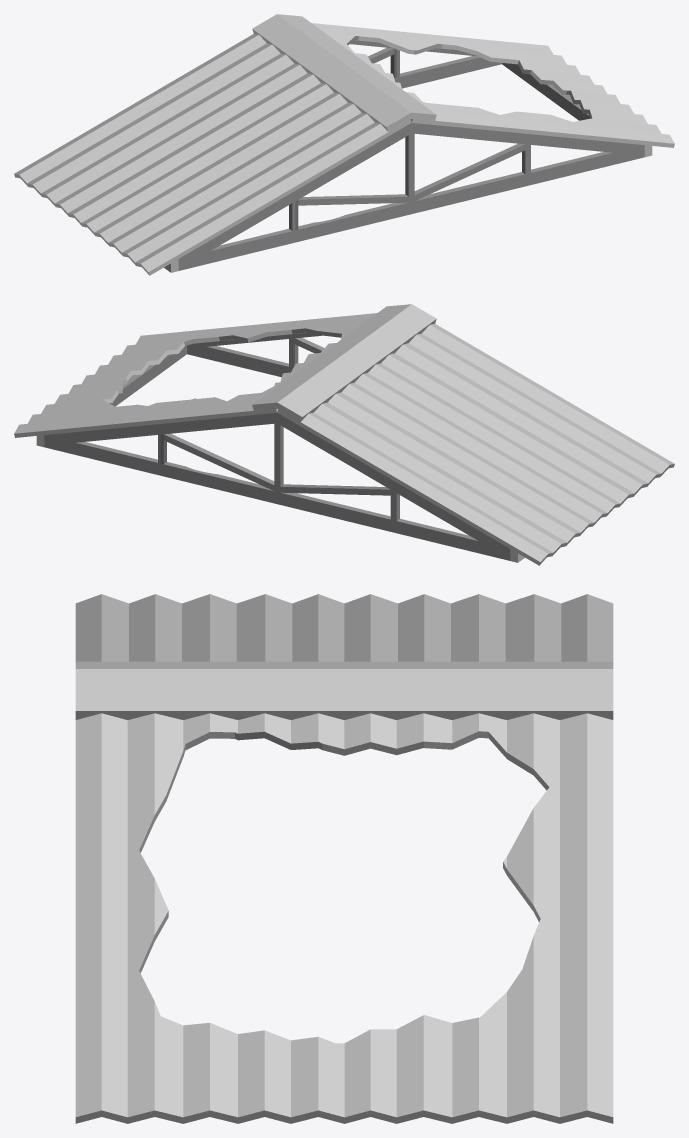
The model's file is Wh_Roof_Damaged_12m.fbx.
3 renders of one model, top to bottom at view 1: azimuth 30°, elevation 25°; view 2: azimuth 150°, elevation 25°; view 3: azimuth 270°, elevation 25°, orthographic. The views are drawn at different scales.
Parts seen in each view (by area): view 1: Cube.1079; view 2: Cube.1079; view 3: Cube.1079.
Boxes of the visible parts, x1=… form: Cube.1079: x1=14, y1=14, x2=674, y2=275; Cube.1079: x1=14, y1=304, x2=674, y2=565; Cube.1079: x1=75, y1=594, x2=613, y2=1123.
Bounding box in the file's own units: 1363 × 250 × 600.
